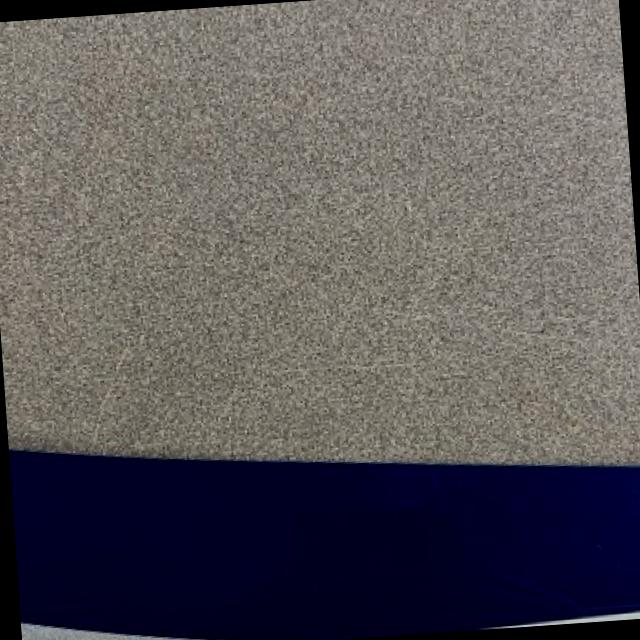healthy: (0, 0, 640, 461), (10, 449, 640, 639)
